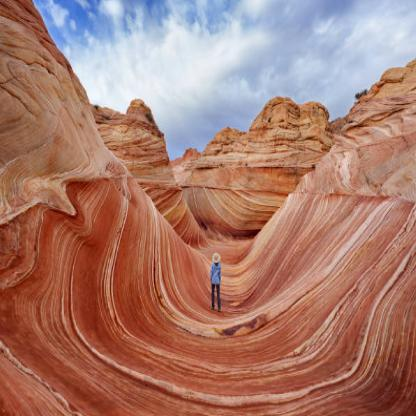Sedimentary_Sandstone: (1, 0, 96, 415), (287, 191, 416, 415), (106, 103, 189, 250), (237, 94, 330, 174)
